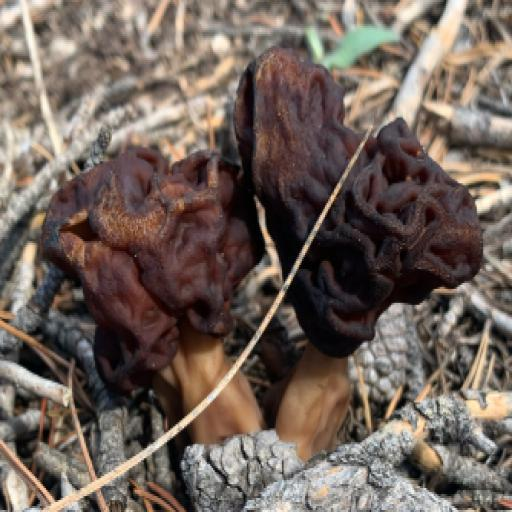mushroom: (37, 36, 485, 424)
